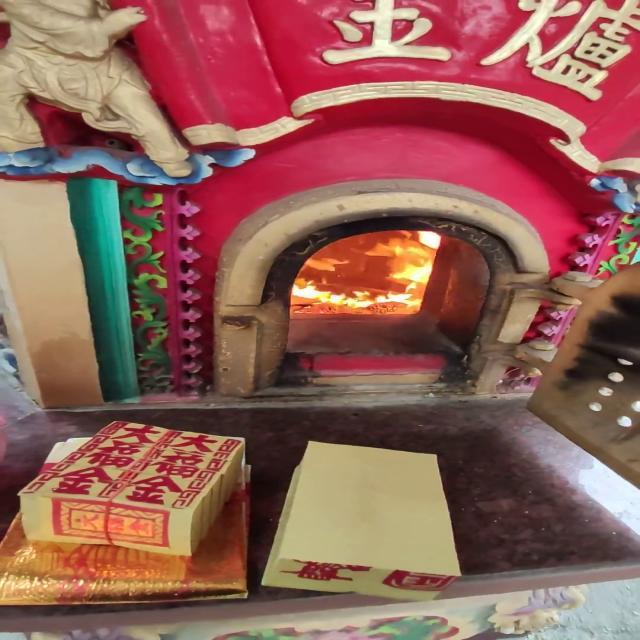Fire: (296, 234, 446, 314)
